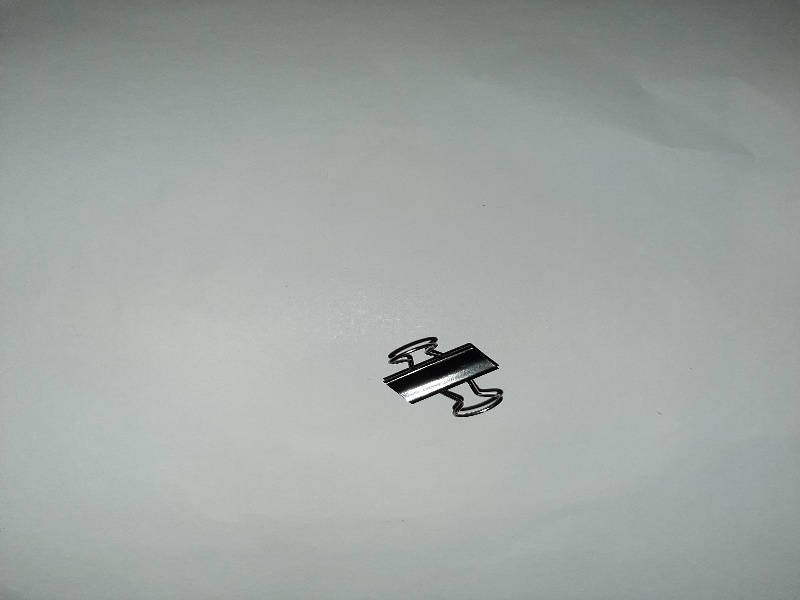Big Paperclip: (379, 328, 516, 429)
